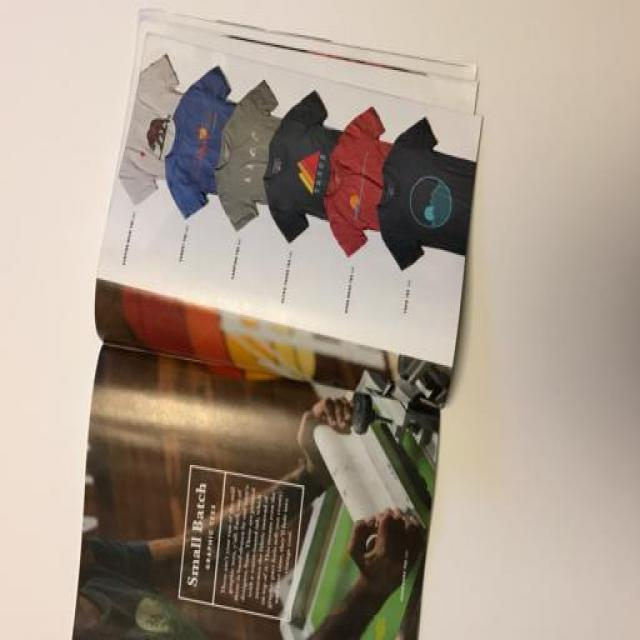paper: (64, 1, 548, 640)
